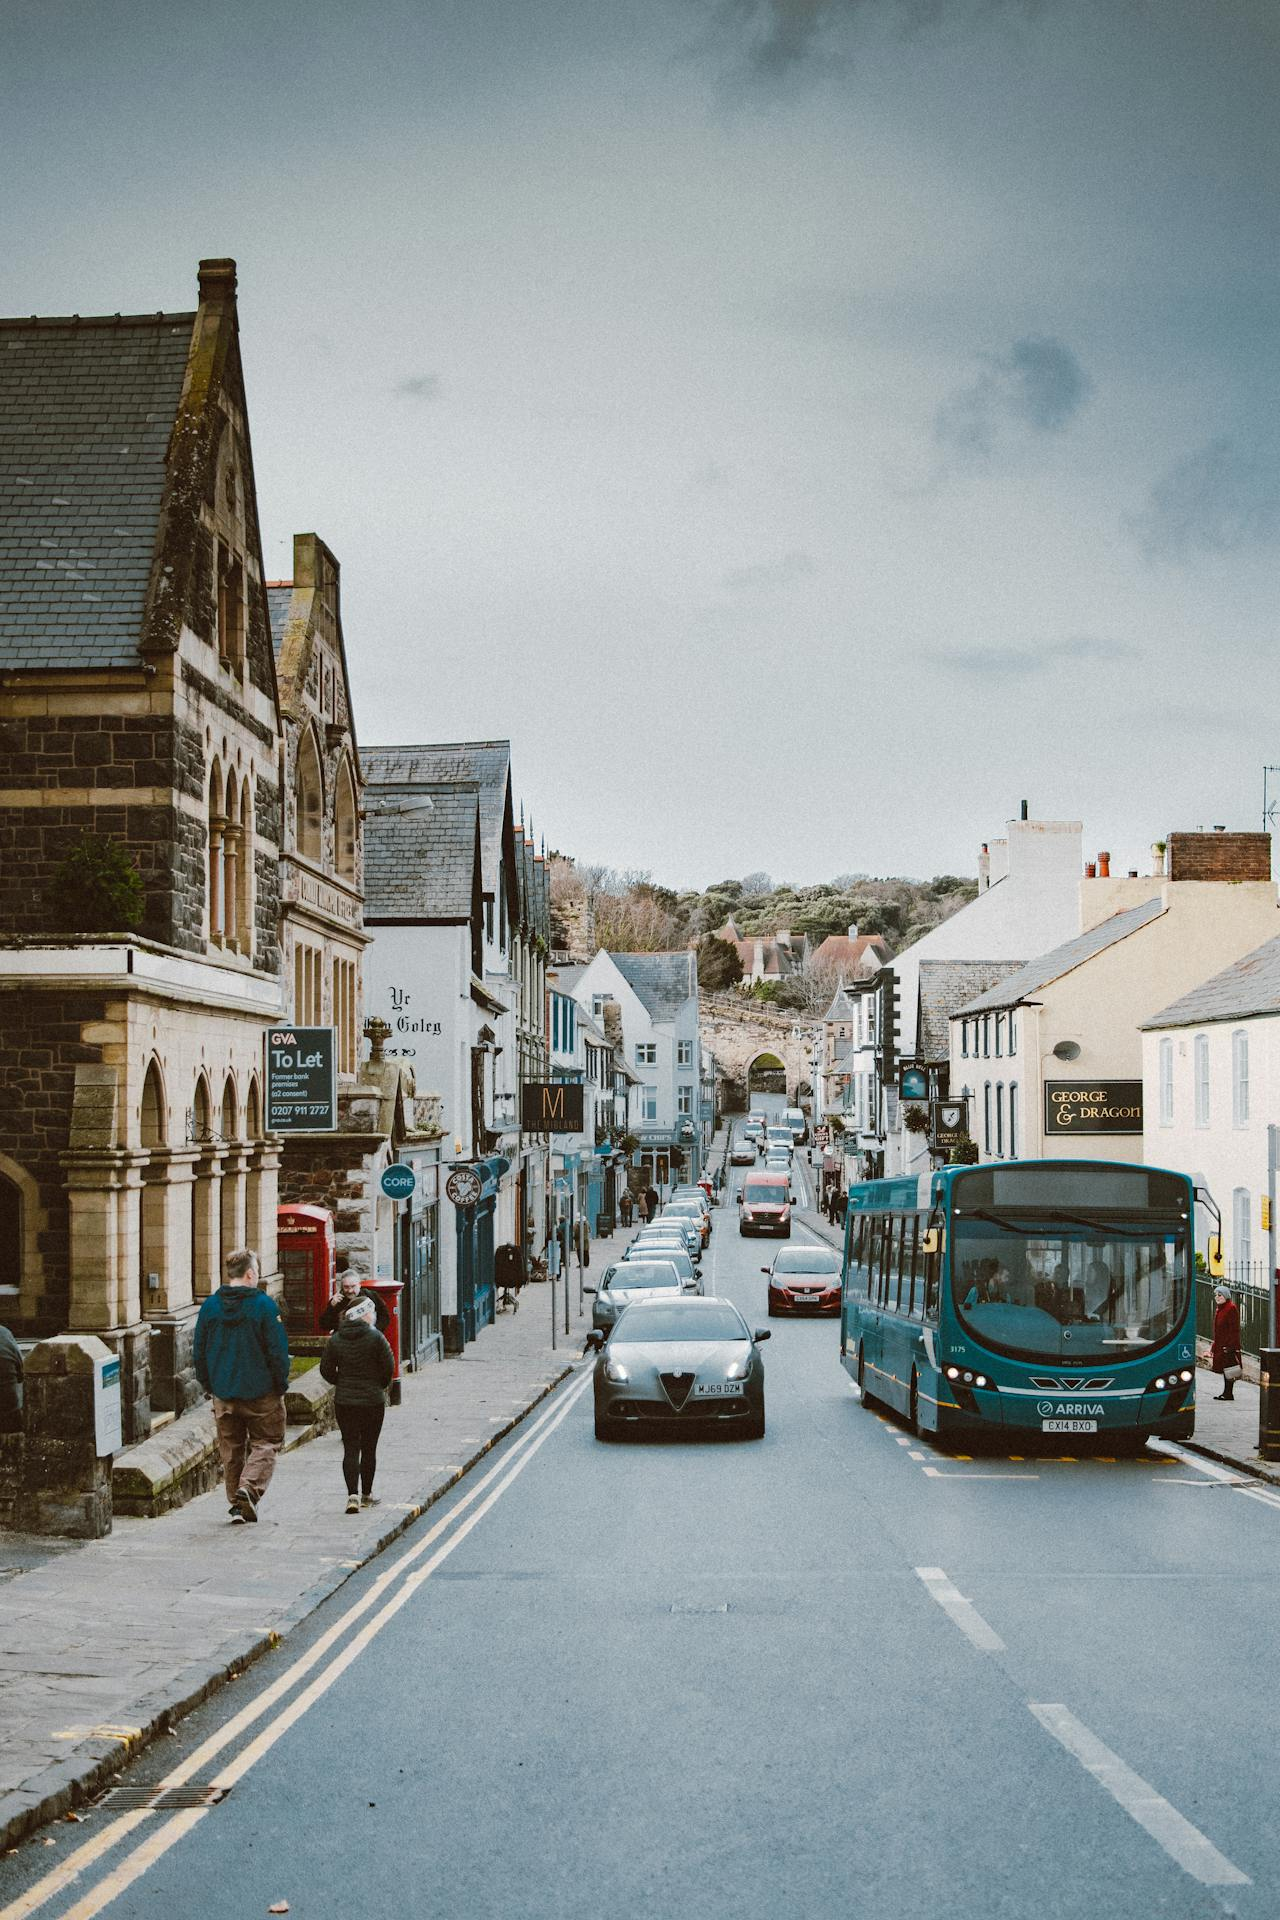bus: (826, 1159, 1209, 1494)
car: (601, 1276, 774, 1461)
